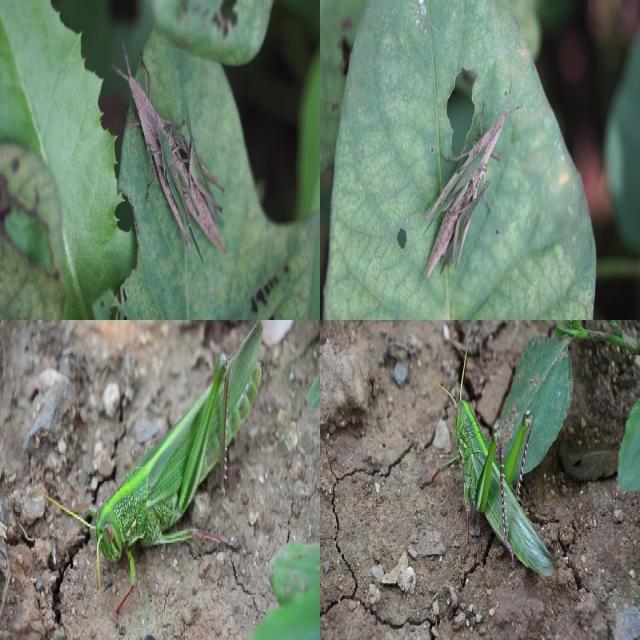ZhaMeng: (66, 317, 291, 594), (425, 356, 563, 596)
